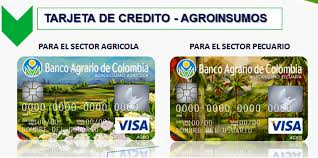tarjeta: (170, 56, 308, 142), (17, 57, 155, 140)
